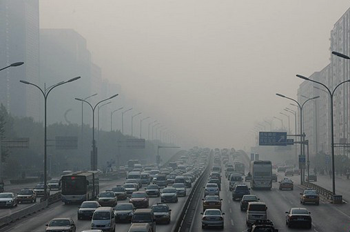bus: (58, 169, 101, 206), (250, 159, 272, 191)
car: (130, 208, 157, 231), (91, 205, 115, 230), (285, 207, 312, 228), (246, 201, 268, 225), (200, 209, 225, 230), (77, 201, 103, 221), (44, 216, 76, 232), (150, 202, 172, 224), (113, 202, 137, 221), (201, 193, 224, 210), (231, 184, 252, 202), (97, 189, 118, 207), (16, 186, 37, 204), (239, 195, 261, 212), (299, 188, 320, 205), (129, 191, 149, 207), (228, 173, 244, 191), (125, 171, 141, 188), (160, 187, 178, 202), (203, 182, 219, 198), (170, 182, 186, 198), (111, 184, 127, 200), (1, 192, 16, 208), (33, 183, 51, 196), (278, 177, 294, 191), (123, 182, 139, 196), (145, 184, 160, 197), (47, 177, 61, 190), (304, 171, 317, 182), (224, 167, 236, 178), (284, 167, 294, 176)
